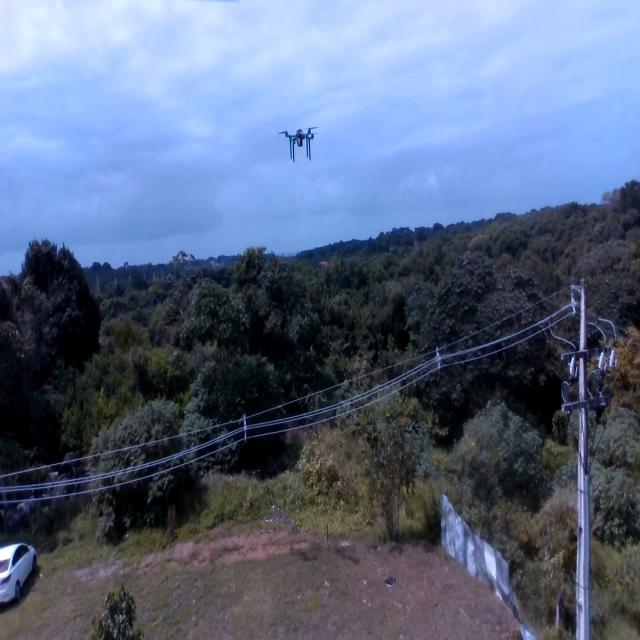-uav-: (278, 107, 322, 176)
